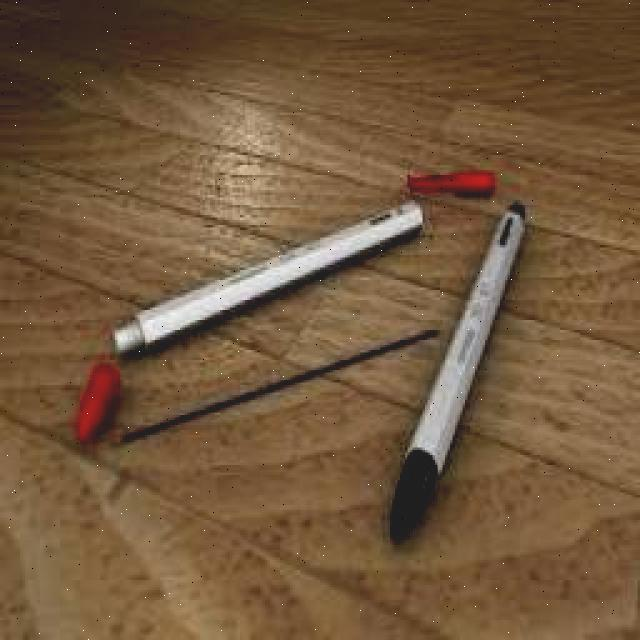pen: (387, 203, 530, 546)
